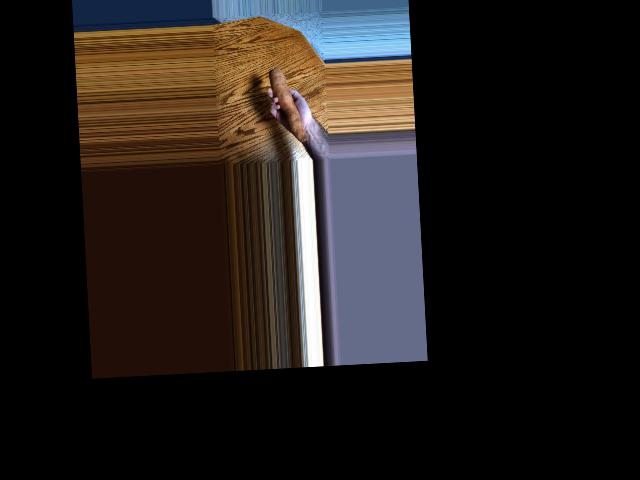sweet_potato: (267, 65, 307, 141)
